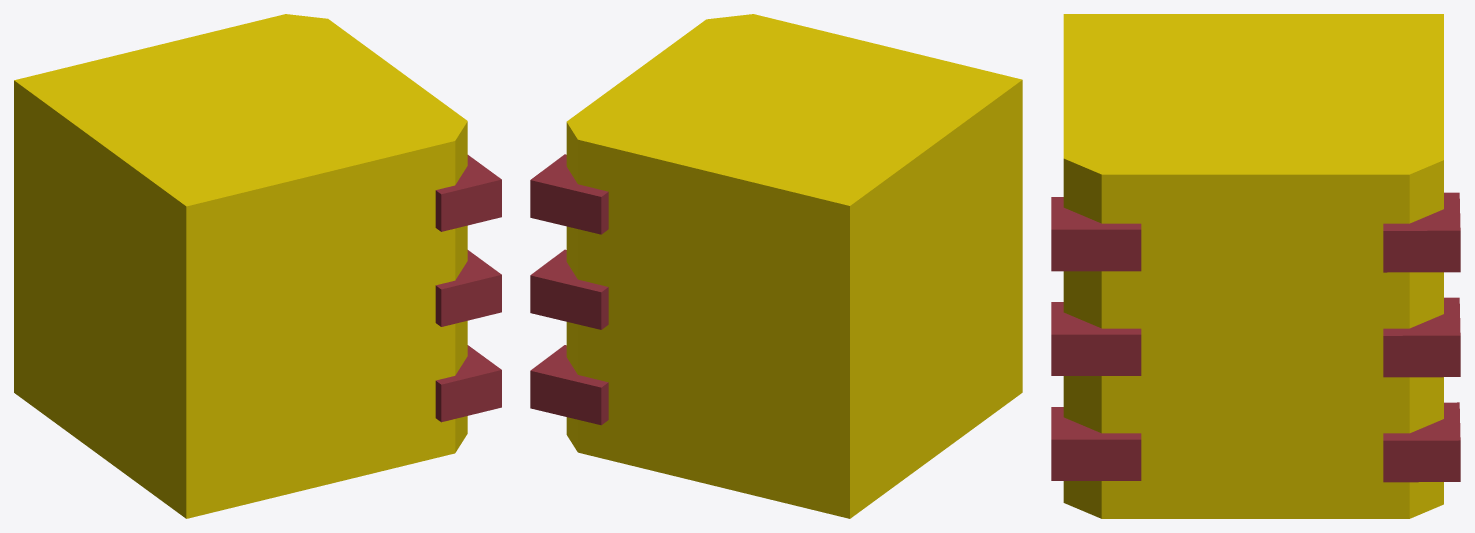
The model's file is Left Connect Yellow Red.fbx.
The picture shows the model from 3 angles, left to right: view 1: azimuth 30°, elevation 25°; view 2: azimuth 150°, elevation 25°; view 3: azimuth 270°, elevation 25°; orthographic projection. The views are drawn at different scales.
Parts seen in each view (by area): view 1: pCube10; view 2: pCube10; view 3: pCube10.
Part boxes in pixels (left/top/right/bottom): pCube10: left=14, top=14, right=501, bottom=518; pCube10: left=530, top=14, right=1022, bottom=518; pCube10: left=1051, top=14, right=1460, bottom=518.
Size of the model in its own units: 2.09 by 2 by 2.15.
